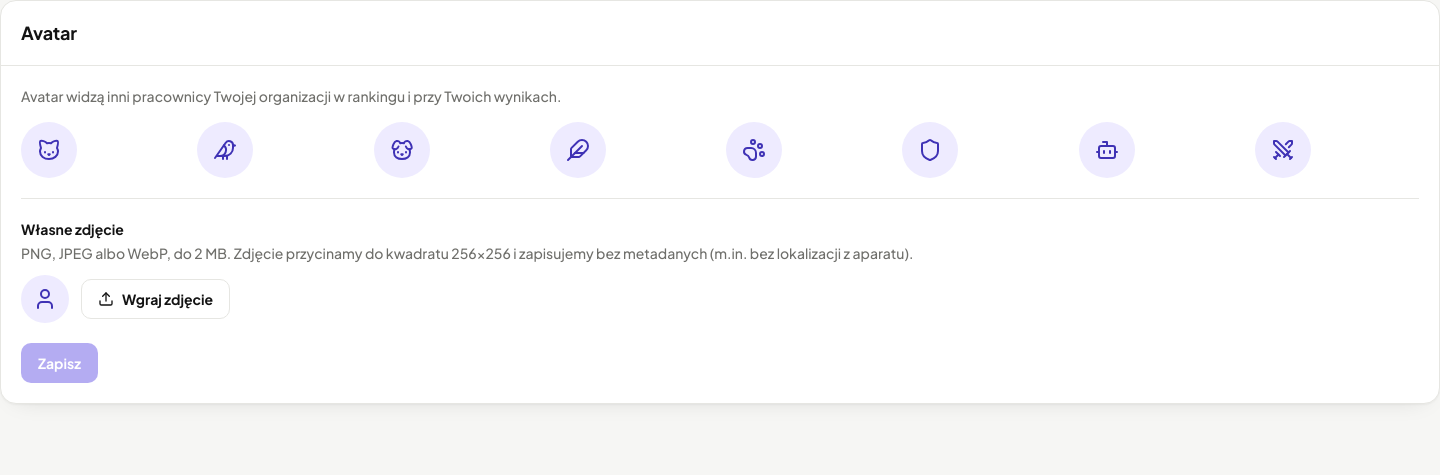
Test case: AvatarSettings (ustawienia konta) › pokazuje komunikat błędu z API i NIE rozgłasza zdarzenia, gdy zapis się nie powiedzie
Click the button named "ninja": [1283, 150] box x1=1255 y1=122 x2=1311 y2=178
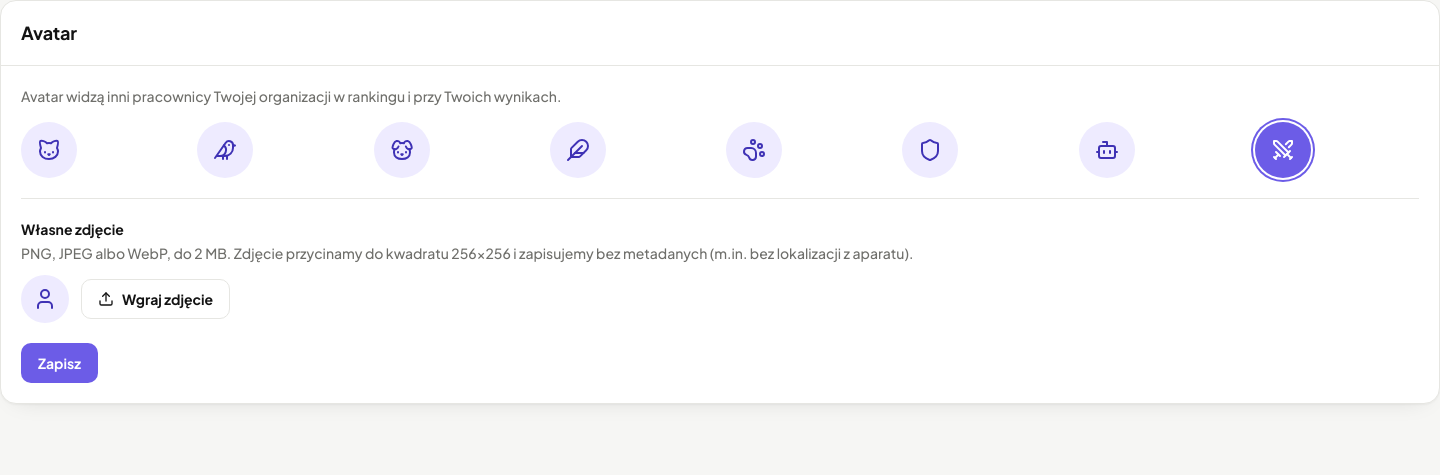
Click the button "Zapisz": [60, 363] box x1=21 y1=343 x2=98 y2=383
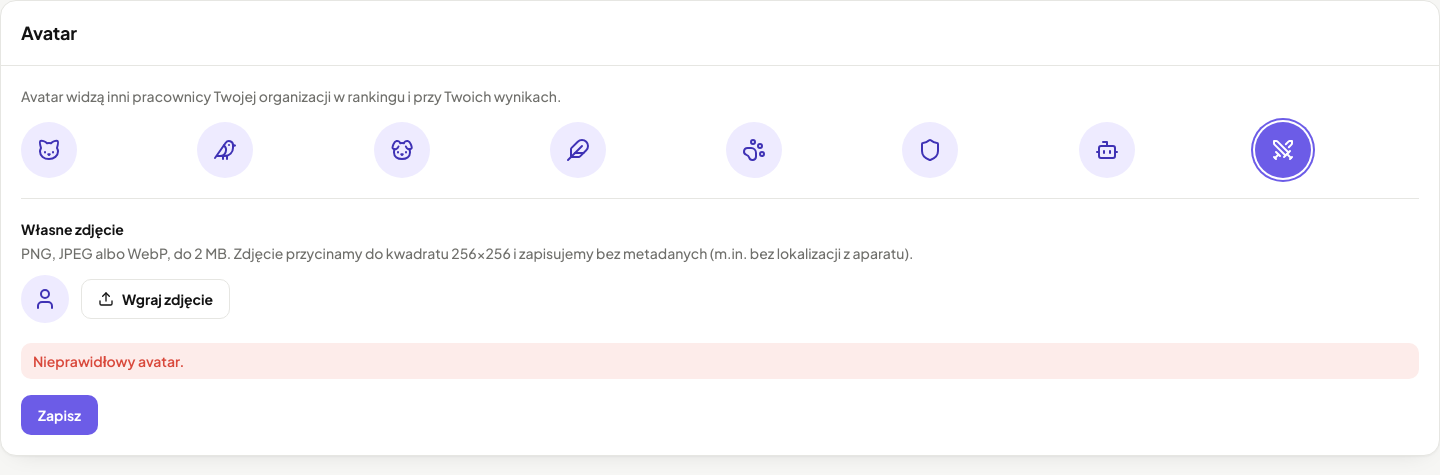
Expected: the message reads "Nieprawidłowy avatar.", x1=33 y1=352 x2=184 y2=370
